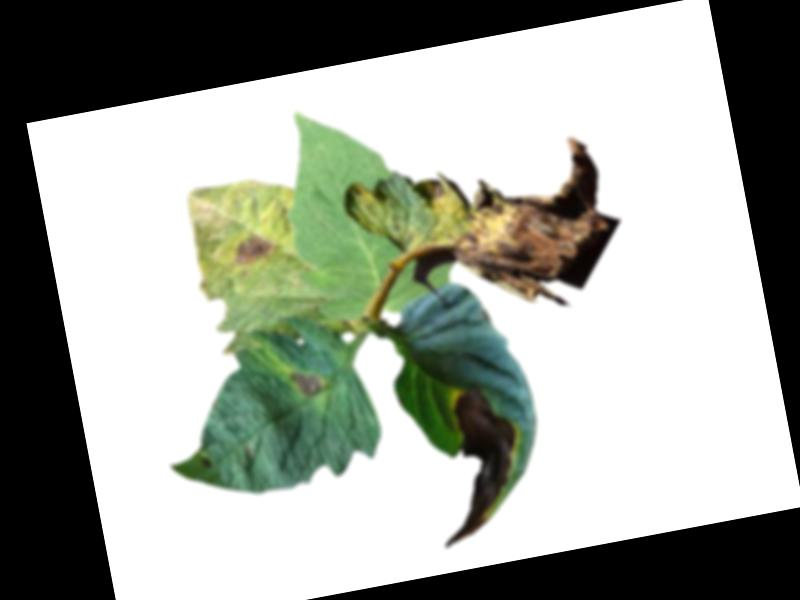Early_blight: (408, 133, 626, 319), (417, 378, 541, 549), (231, 229, 275, 267), (289, 364, 325, 399), (200, 454, 214, 470)
healthy: (270, 88, 463, 328)
